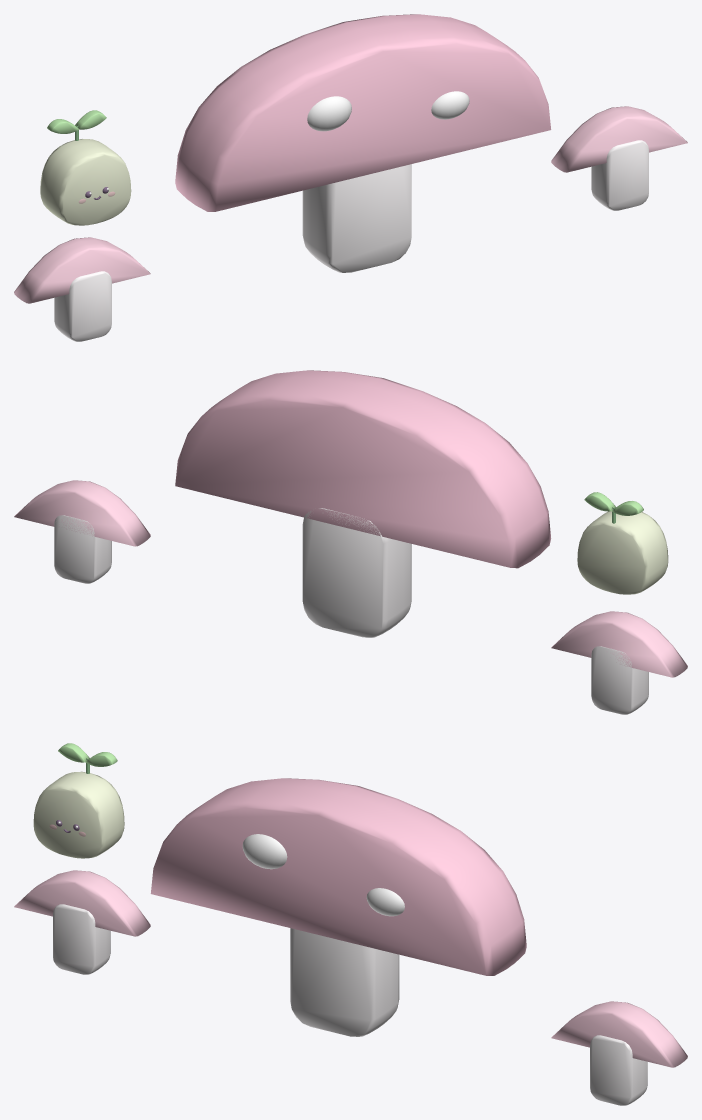
File: decor_2_candy.glb
3 renders of one model, top to bottom at view 1: azimuth 30°, elevation 25°; view 2: azimuth 150°, elevation 25°; view 3: azimuth 330°, elevation 25°, orthographic.
Visible parts, largest first — view 1: decor_2_candy; view 2: decor_2_candy; view 3: decor_2_candy.
Part boxes in pixels (x1,y1,x2,y2): decor_2_candy: (14,14,687,341); decor_2_candy: (14,370,687,714); decor_2_candy: (14,743,687,1105).
Bounding box in the file's own units: 19.71 × 6.97 × 2.38.
